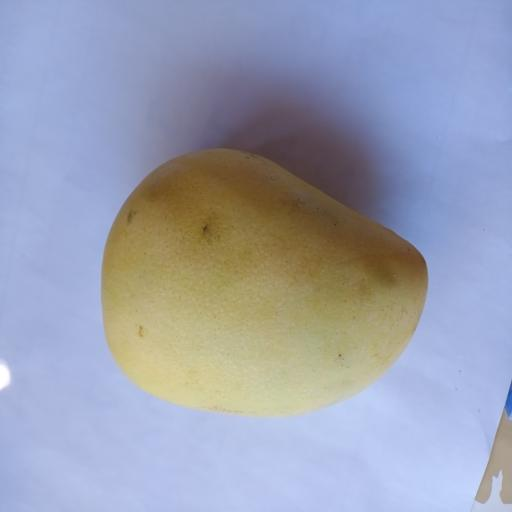mango-ripe: (72, 135, 447, 437)
